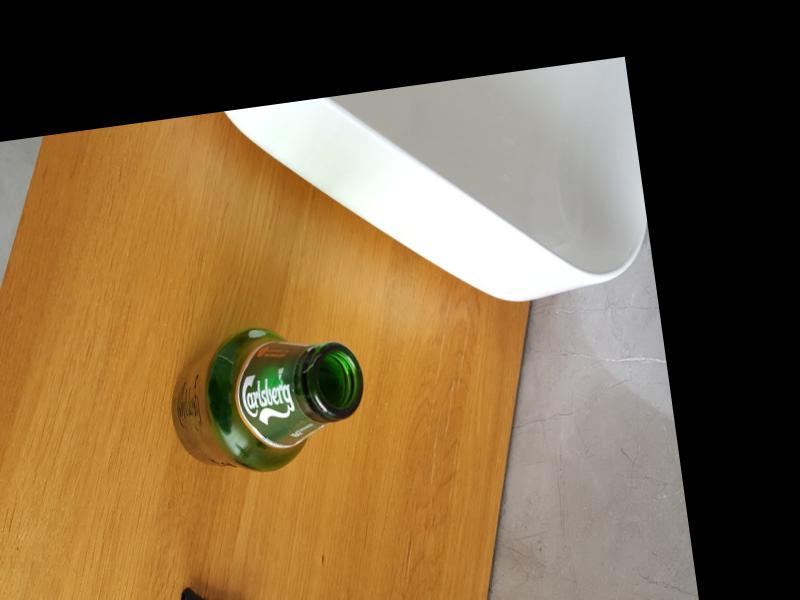Beer: (161, 312, 371, 483)
